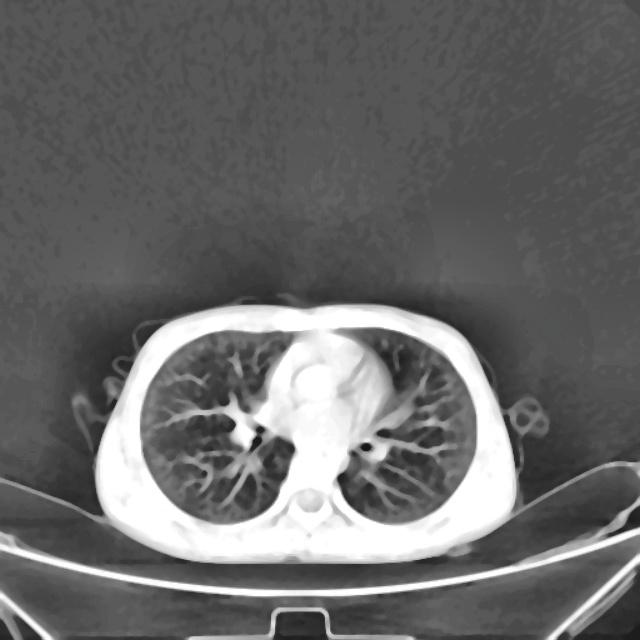covid: (91, 298, 520, 565)
